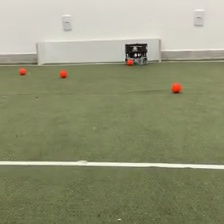ball: (170, 80, 182, 93), (18, 65, 26, 75), (59, 68, 67, 77), (126, 57, 133, 66)
goal: (34, 36, 162, 66)
robot: (124, 42, 148, 66)
